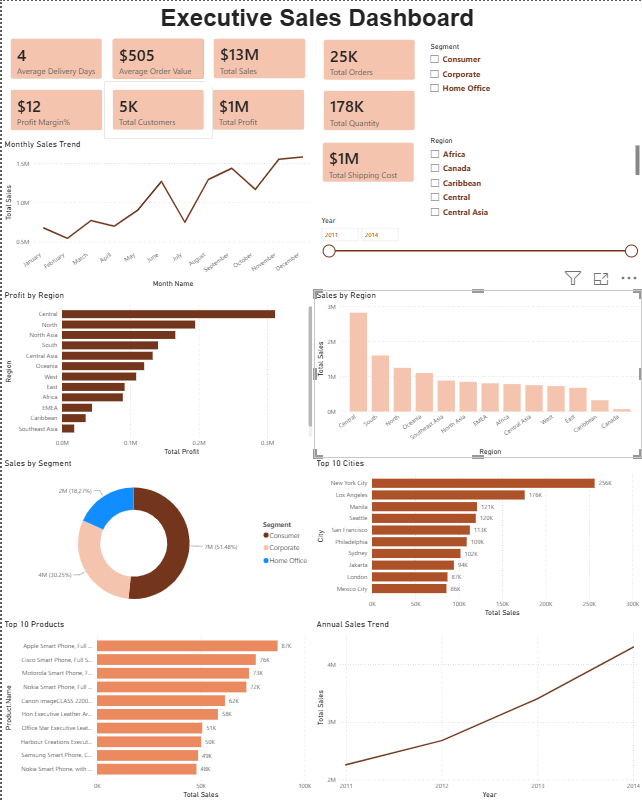

This screenshot's page, from the dashboard's own definition file:
{"tool":"powerbi","page":{"name":"Page 1","canvas":[1280,1600],"ordinal":0},"visuals":[{"type":"textbox","box":[268,0,824,60],"z":0},{"type":"cardVisual","fields":{"Data":["superstore.Average Delivery Days"]},"box":[0,58.7,218,115.5],"z":1000},{"type":"cardVisual","fields":{"Data":["superstore.Total Orders"]},"box":[625.6,60,217.8,115.6],"z":2000},{"type":"cardVisual","fields":{"Data":["superstore.Total Profit"]},"box":[404.4,160,218.9,115.6],"z":3000},{"type":"cardVisual","fields":{"Data":["superstore.Average Order Value"]},"box":[204,58.7,218,115.5],"z":4000},{"type":"cardVisual","fields":{"Data":["superstore.Profit Margin%"]},"box":[0,160,218,116],"z":5000},{"type":"cardVisual","fields":{"Data":["superstore.Total Customers"]},"box":[204.4,160,217.8,115.6],"z":6000},{"type":"cardVisual","fields":{"Data":["superstore.Total Sales"]},"box":[406,58,218,114],"z":7000},{"type":"cardVisual","fields":{"Data":["superstore.Total Shipping Cost"]},"box":[624.4,265.6,217.8,113.3],"z":8000},{"type":"cardVisual","fields":{"Data":["superstore.Total Quantity"]},"box":[625.6,162.2,217.8,114.4],"z":9000},{"type":"lineChart","title":"Annual Sales Trend","fields":{"Category":["DateTable.Date.Variation.Date Hierarchy.Year","DateTable.Date.Variation.Date Hierarchy.Quarter","DateTable.Date.Variation.Date Hierarchy.Month","DateTable.Date.Variation.Date Hierarchy.Day"],"Y":["superstore.Total Sales"]},"box":[623.3,1235.6,656.7,364.4],"z":10000},{"type":"clusteredColumnChart","title":"Sales by Region","fields":{"Category":["superstore.Region"],"Y":["superstore.Total Sales"]},"box":[624,578,656,336],"z":11000},{"type":"donutChart","title":"Sales by Segment","fields":{"Category":["superstore.Segment"],"Y":["superstore.Total Sales"]},"box":[0,914,624,322],"z":12000},{"type":"clusteredBarChart","title":"Profit by Region","fields":{"Category":["superstore.Region"],"Y":["superstore.Total Profit"]},"box":[0,578,626,336],"z":12001},{"type":"lineChart","title":"Monthly Sales Trend","fields":{"Category":["DateTable.Month Name"],"Y":["superstore.Total Sales"]},"box":[0,275.6,624.4,302.2],"z":12002},{"type":"clusteredBarChart","title":"Top 10 Products ","fields":{"Category":["superstore.Product.Name"],"Y":["superstore.Total Sales"]},"box":[0,1235.6,624.4,364.4],"z":12003},{"type":"clusteredBarChart","title":"Top 10 Cities","fields":{"Category":["superstore.City"],"Y":["superstore.Total Sales"]},"box":[624,914,656,322],"z":12004},{"type":"slicer","fields":{"Values":["DateTable.Year"]},"box":[625.6,426.7,654.4,151.1],"z":12005},{"type":"slicer","fields":{"Values":["superstore.Segment"]},"box":[844,78,436,188],"z":12006},{"type":"slicer","fields":{"Values":["superstore.Region"]},"box":[844,266,436,178],"z":12007}]}

Visuals, with their boxes in screenshot pixels (x1, y1, x2, y2), scaled from the page's 1280x1600 canvas onto the 642x801 screenshot:
textbox: box(134, 0, 548, 30)
cardVisual - superstore.Average Delivery Days: box(0, 29, 109, 87)
cardVisual - superstore.Total Orders: box(314, 30, 423, 88)
cardVisual - superstore.Total Profit: box(203, 80, 313, 138)
cardVisual - superstore.Average Order Value: box(102, 29, 212, 87)
cardVisual - superstore.Profit Margin%: box(0, 80, 109, 138)
cardVisual - superstore.Total Customers: box(103, 80, 212, 138)
cardVisual - superstore.Total Sales: box(204, 29, 313, 86)
cardVisual - superstore.Total Shipping Cost: box(313, 133, 422, 190)
cardVisual - superstore.Total Quantity: box(314, 81, 423, 138)
"Annual Sales Trend" lineChart: box(313, 619, 641, 800)
"Sales by Region" clusteredColumnChart: box(313, 289, 641, 458)
"Sales by Segment" donutChart: box(0, 458, 313, 619)
"Profit by Region" clusteredBarChart: box(0, 289, 314, 458)
"Monthly Sales Trend" lineChart: box(0, 138, 313, 289)
"Top 10 Products " clusteredBarChart: box(0, 619, 313, 800)
"Top 10 Cities" clusteredBarChart: box(313, 458, 641, 619)
slicer - DateTable.Year: box(314, 214, 641, 289)
slicer - superstore.Segment: box(423, 39, 641, 133)
slicer - superstore.Region: box(423, 133, 641, 222)
